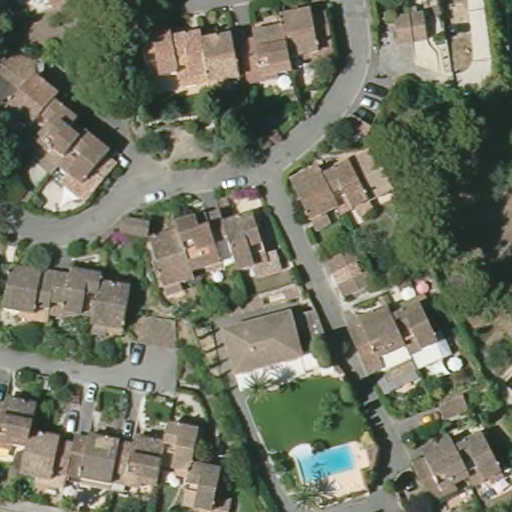pool: (286, 437, 369, 477)
